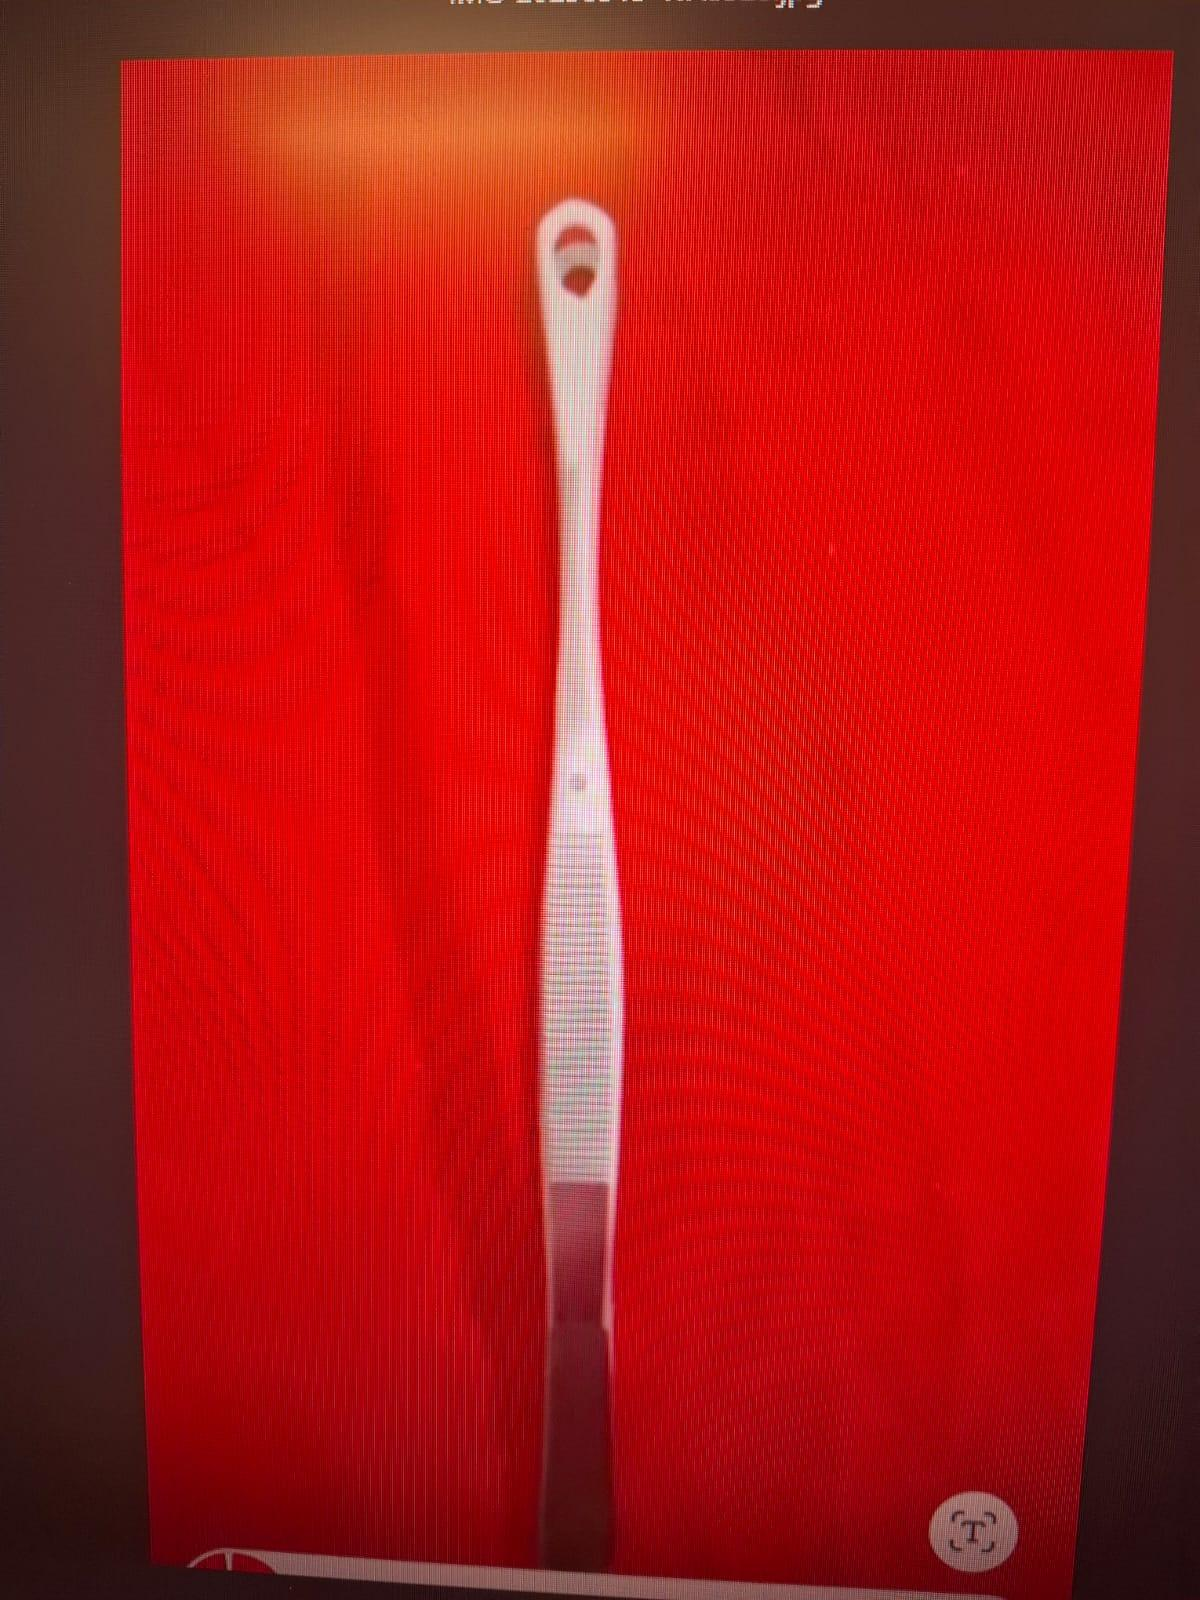Eye Intestinal Forceps: (483, 180, 695, 1552)
